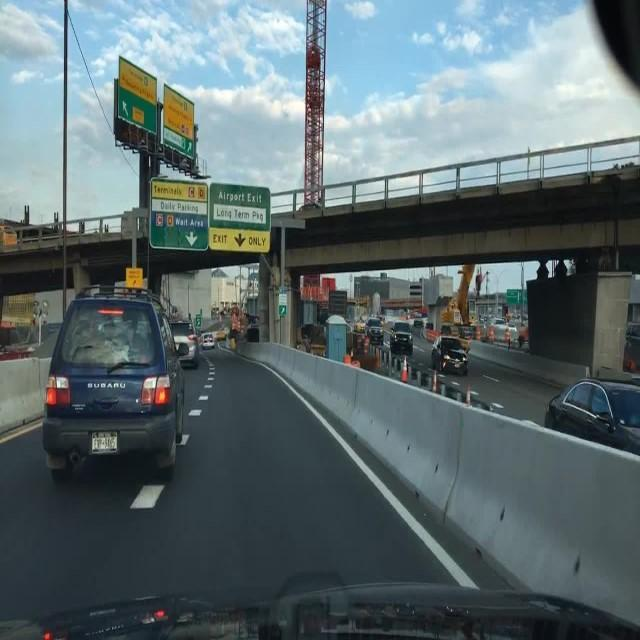normal: (36, 292, 186, 484), (543, 376, 638, 458), (429, 337, 468, 376), (172, 323, 202, 370), (384, 320, 413, 354), (201, 333, 217, 350)
